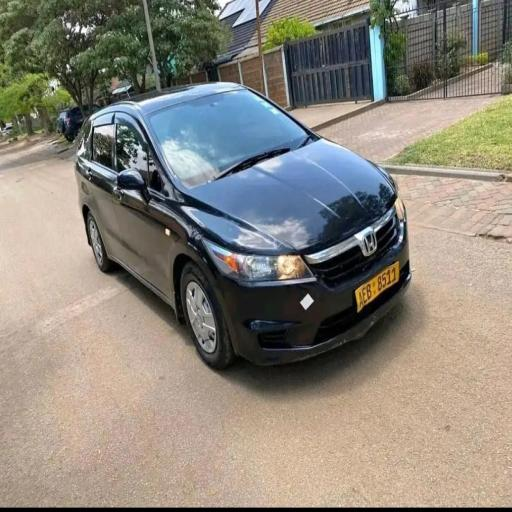number-plates: (352, 268, 404, 306)
